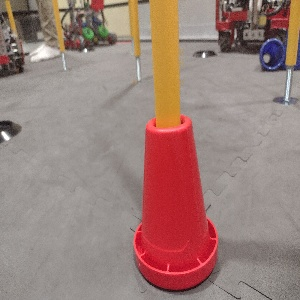Red_1: (127, 114, 219, 290)
